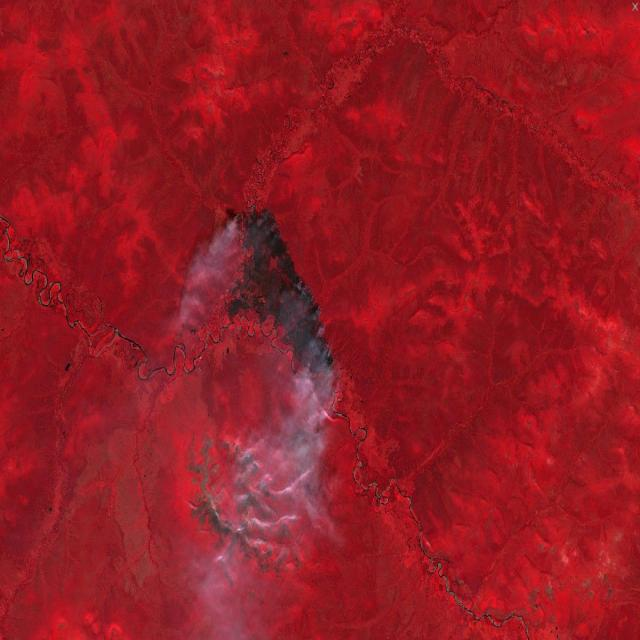fire: (234, 205, 338, 376)
